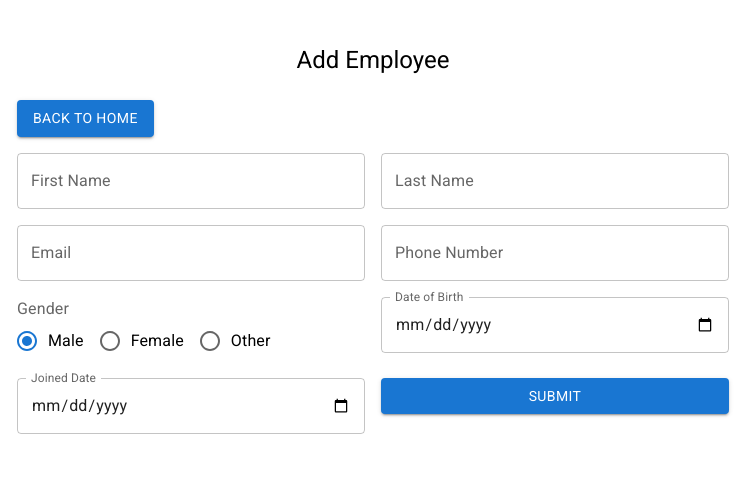
AddEmployee Component › joined date must be after dob
Type "2020-01-01" into the date field labelled "Date of Birth". click: (555, 325)
box: [381,297,729,353]
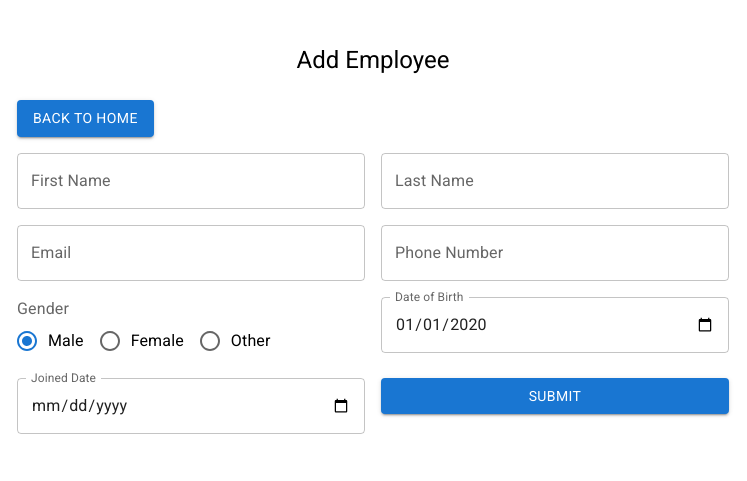
Type "2019-01-01" into the date field labelled "Joined Date". click: (191, 406)
box: [17,378,365,434]
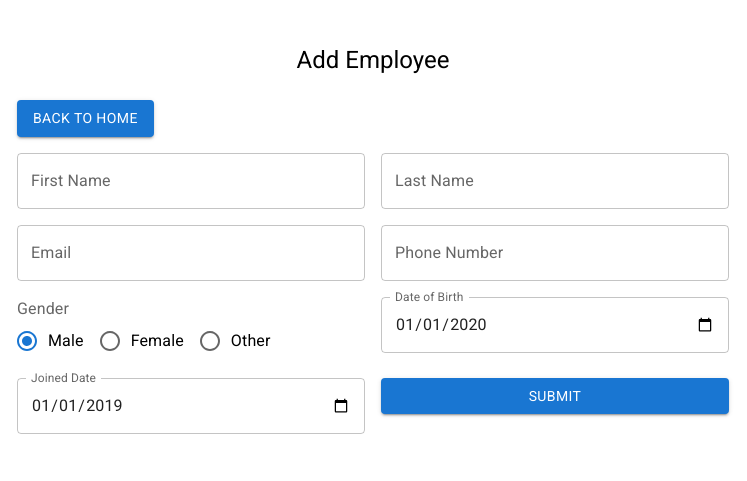
Click the button "Submit". click: (555, 396)
box: [381,378,729,414]
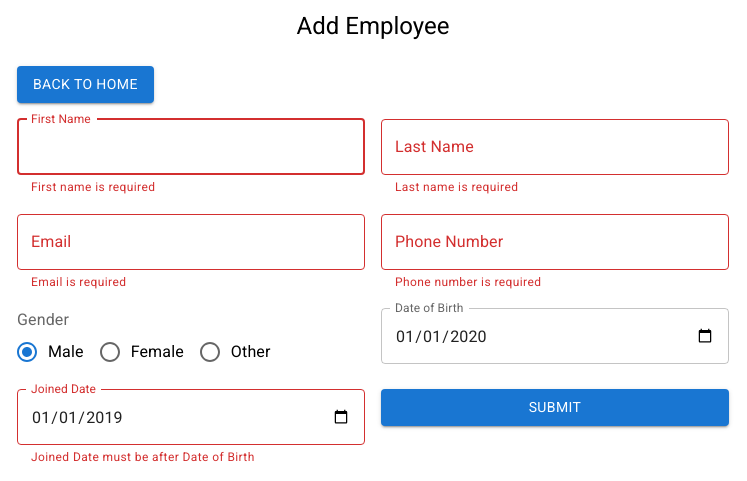
Check: the text "Joined Date must be after Date of Birth" is shown, box [31,450,255,464]
